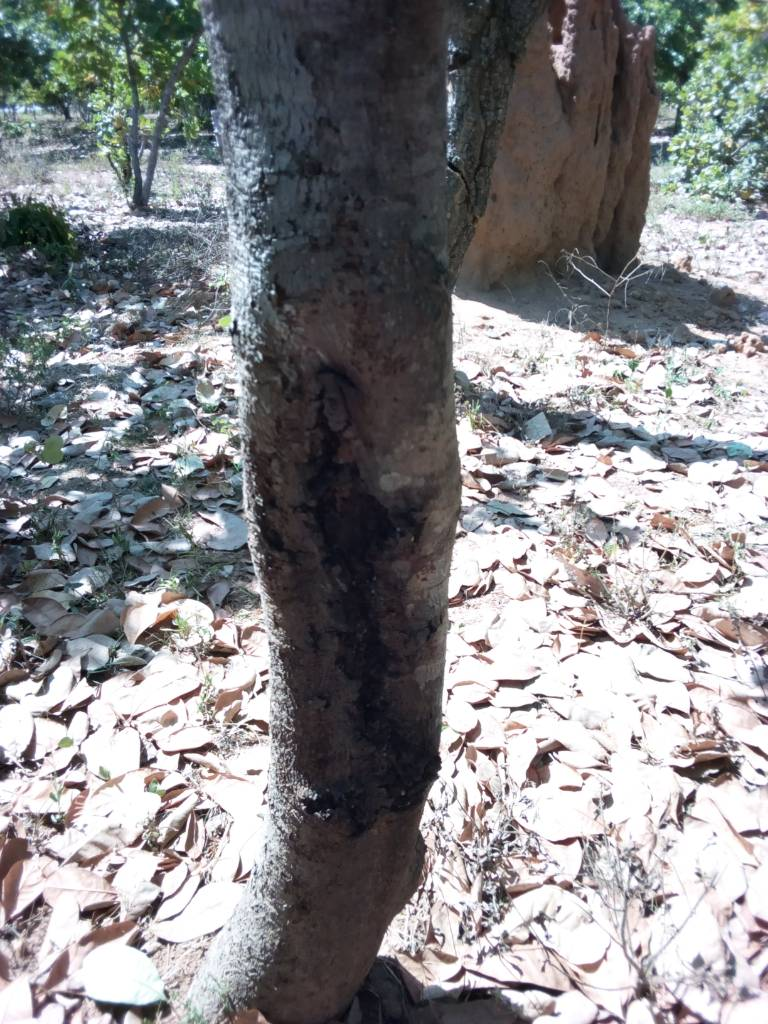Gommose: (274, 380, 444, 828)
